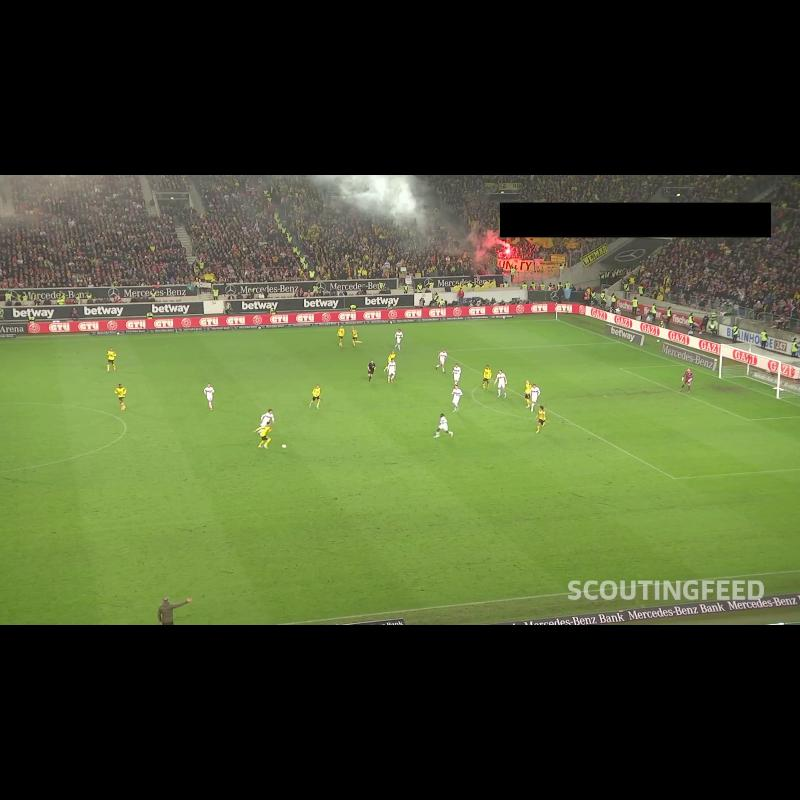cross_recipient_zone: (441, 342, 800, 478)
crossing_player_zone: (515, 468, 800, 586), (300, 319, 619, 357)
pitch: (0, 319, 800, 625)
